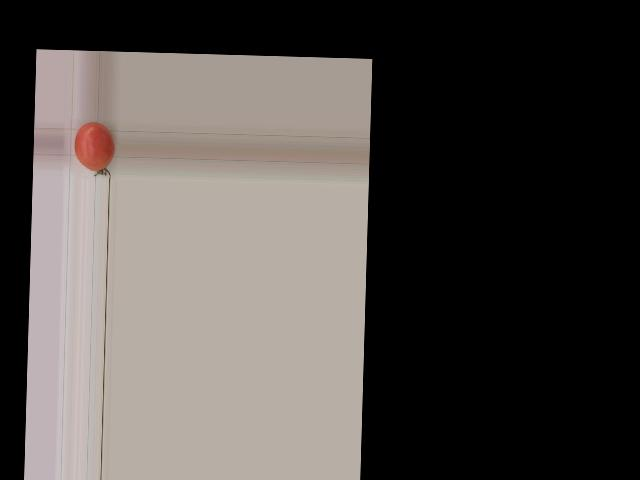tomato: (73, 121, 115, 171)
